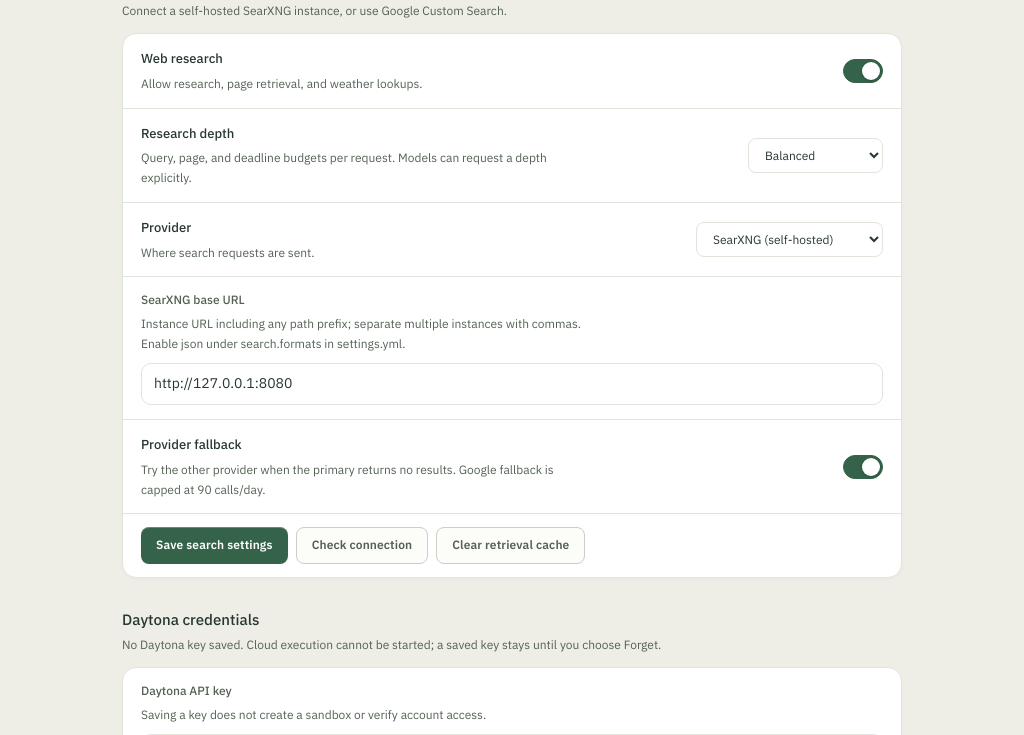
Scenario: SearXNG connection settings › checks the current form without saving it and shows actionable API failures
(page scrolled)
Type "http://localhost:9090/search-proxy" into the field labelled "SearXNG base URL" at (512, 384), box [141, 364, 883, 405]
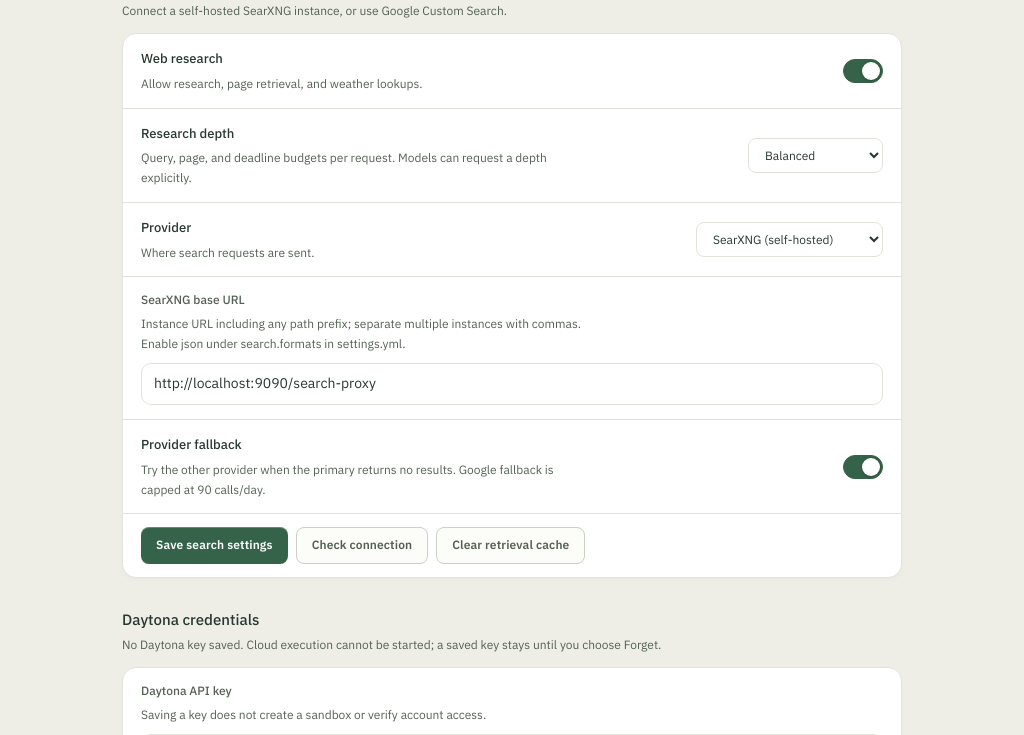
Click the button "Check connection" at (362, 546), box [296, 528, 428, 564]
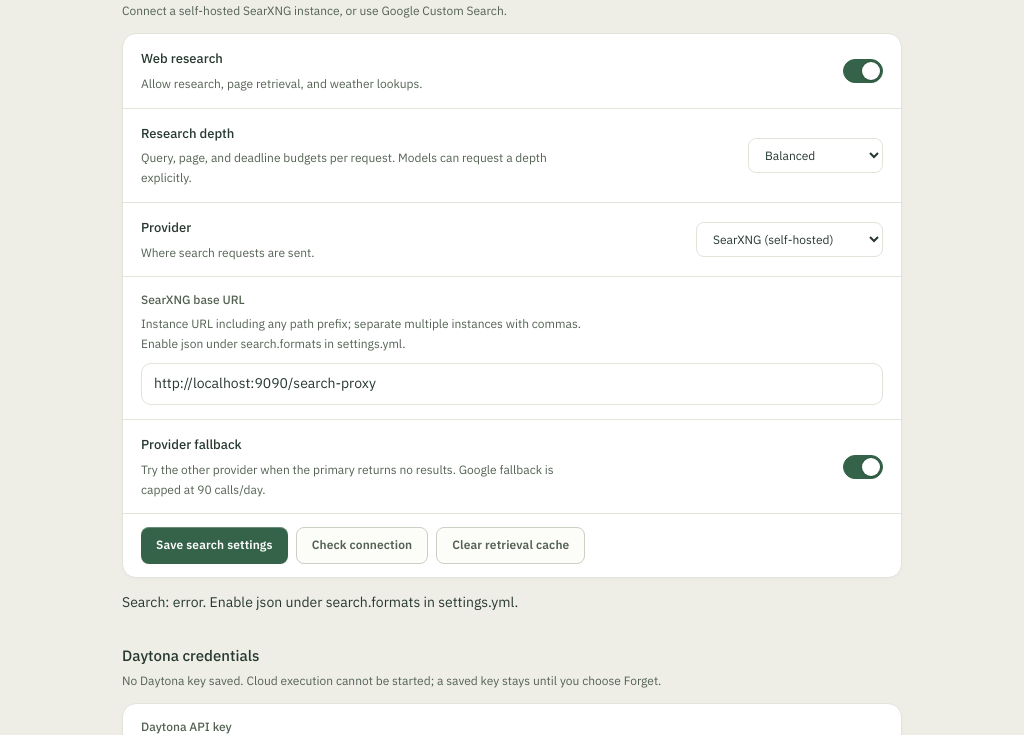
Check: the text "Search: error. Enable json under search.formats in settings.yml." is shown, box [122, 593, 518, 611]
